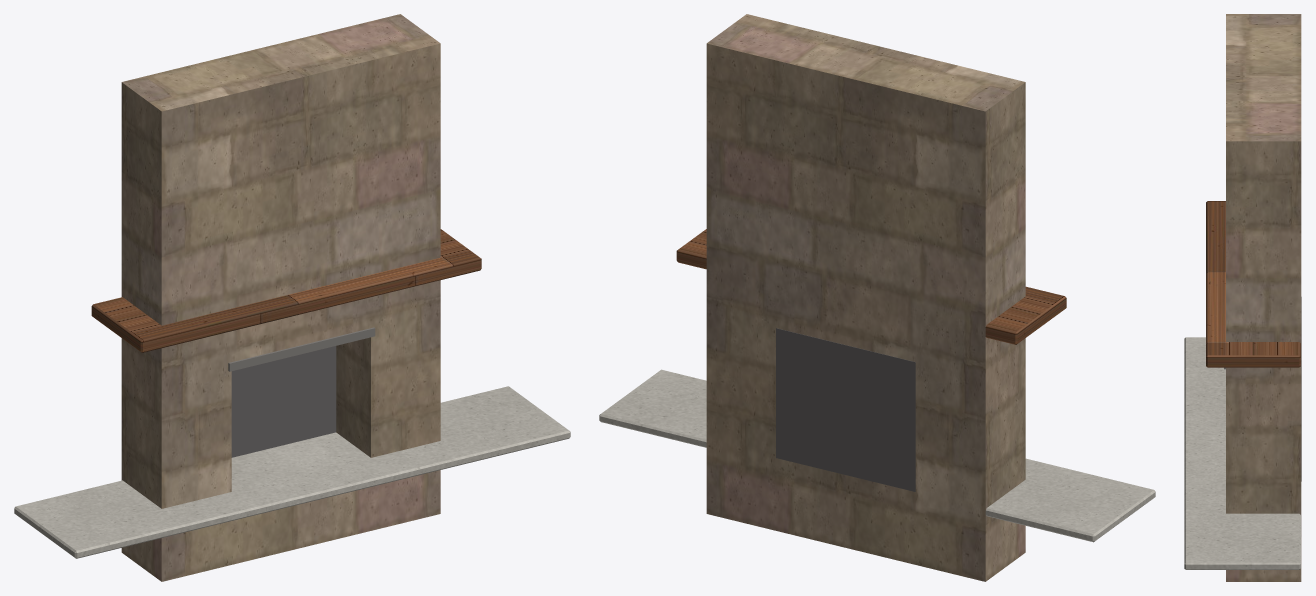
Rendered from fireplace.glb.
The picture shows the model from 3 angles, left to right: view 1: azimuth 30°, elevation 25°; view 2: azimuth 150°, elevation 25°; view 3: azimuth 270°, elevation 25°; orthographic projection. The views are drawn at different scales.
Parts seen in each view (by area): view 1: fireplace_stone2, fireplace_concrete, fireplace_beam, fireplace_dark, fireplace_metal; view 2: fireplace_stone2, fireplace_dark, fireplace_concrete, fireplace_beam; view 3: fireplace_stone2, fireplace_concrete, fireplace_beam, fireplace_dark.
Boxes of the visible parts, box(x1,y1,x2,y2) form: fireplace_stone2: box(121, 14, 440, 581); fireplace_concrete: box(14, 386, 570, 558); fireplace_beam: box(91, 229, 481, 352); fireplace_dark: box(231, 346, 336, 457); fireplace_metal: box(228, 327, 375, 371); fireplace_stone2: box(706, 14, 1025, 581); fireplace_dark: box(776, 328, 915, 491); fireplace_concrete: box(599, 369, 1155, 542); fireplace_beam: box(676, 229, 1066, 344); fireplace_stone2: box(1226, 14, 1301, 581); fireplace_concrete: box(1184, 337, 1300, 569); fireplace_beam: box(1206, 201, 1300, 367); fireplace_dark: box(1301, 297, 1301, 481).
Bounding box in the file's own units: 3.2 × 2.9 × 0.702.
5 materials, 3 textured.
